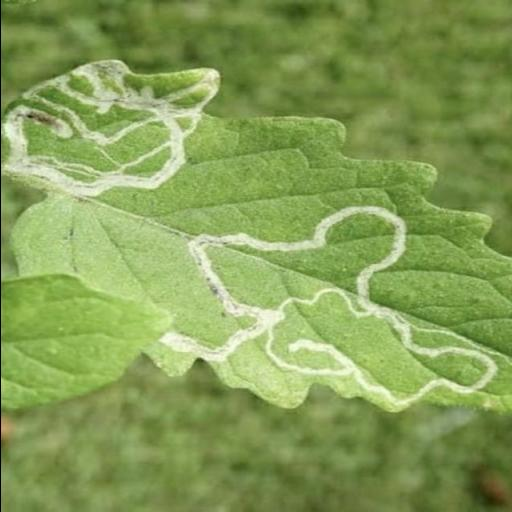disease_tomato: (0, 58, 512, 412)
